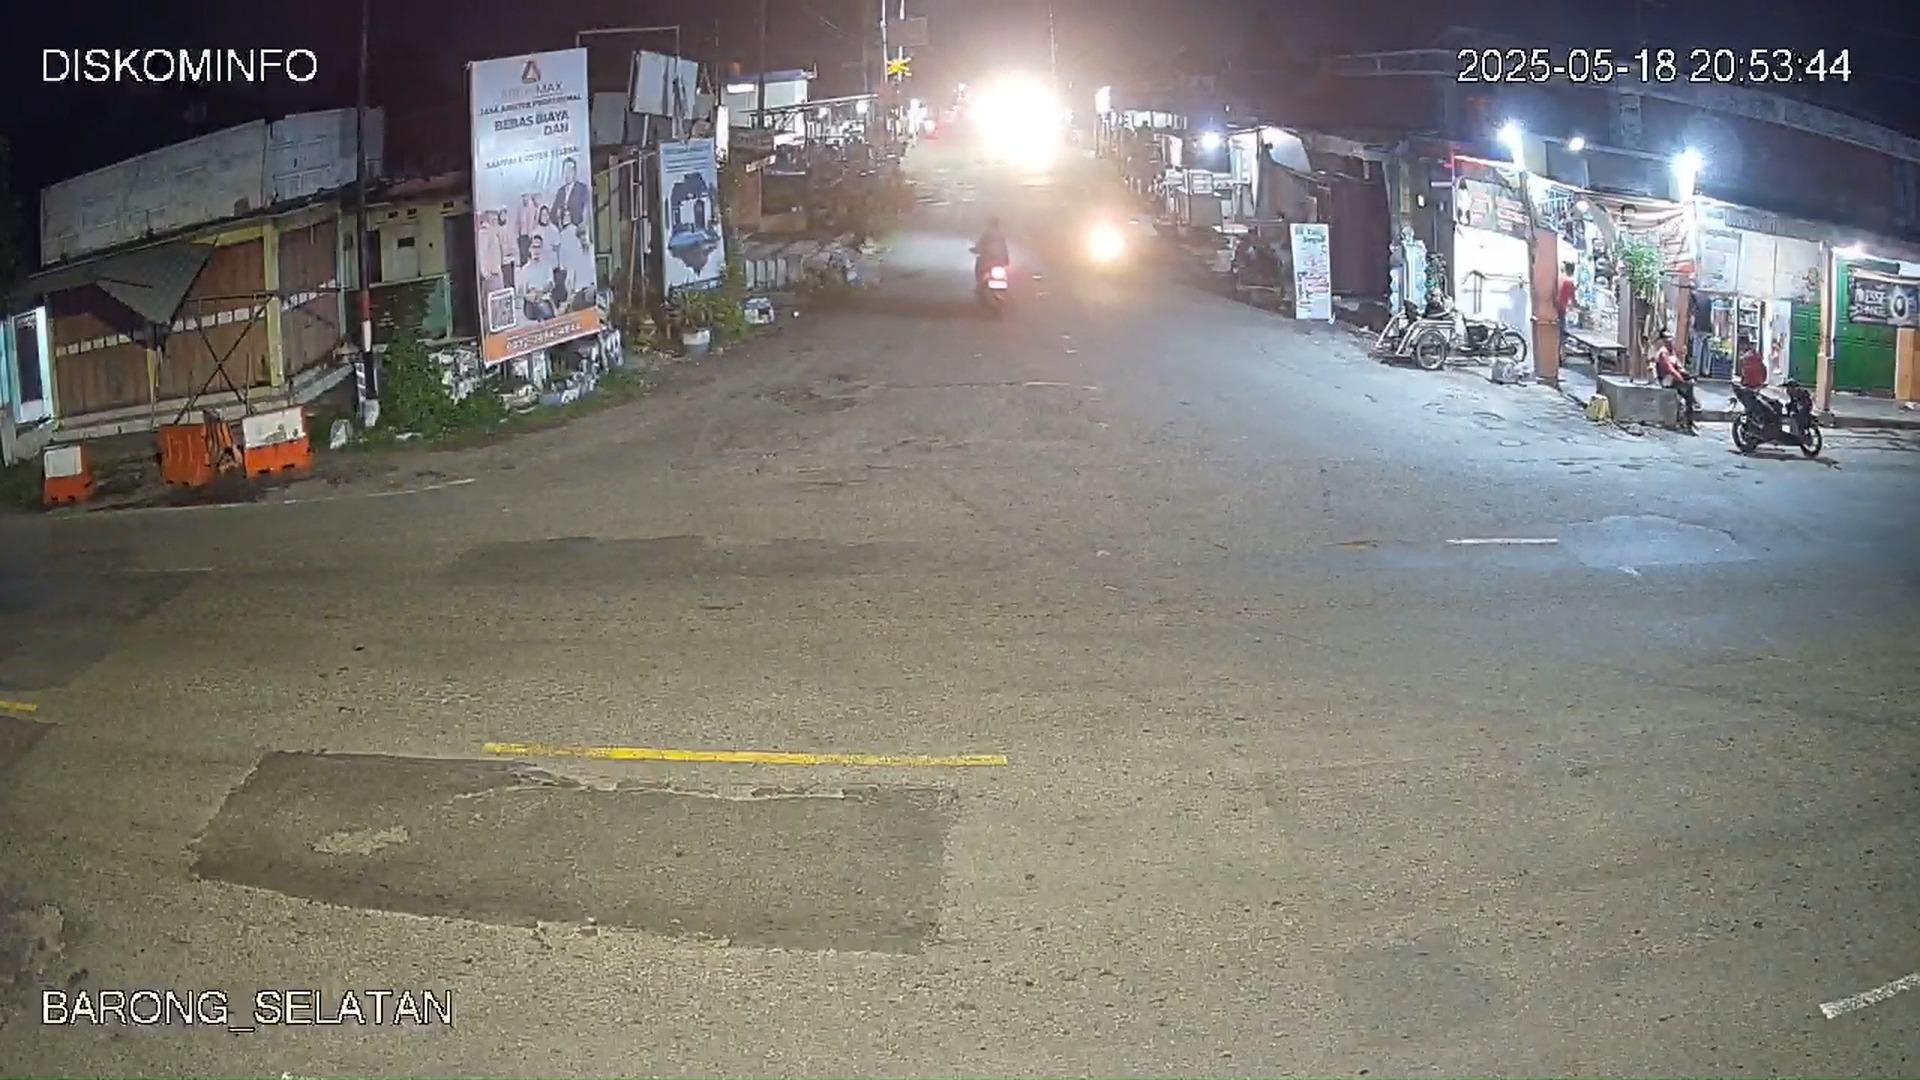Motor: (963, 219, 1030, 316)
